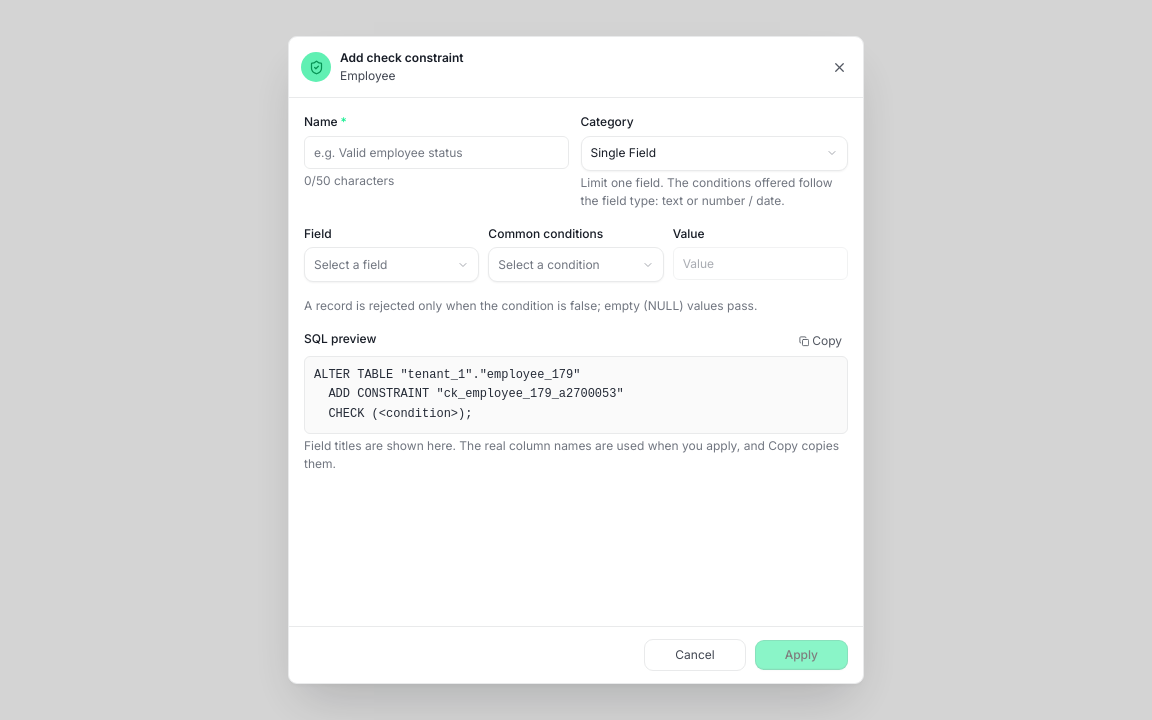
Test: CheckConstraintFormModal › builds the condition from the field, the condition and the typed values, names it and previews the SQL
Step 1. Click the button "Select a field" → (392, 264), box [304,247,479,282]
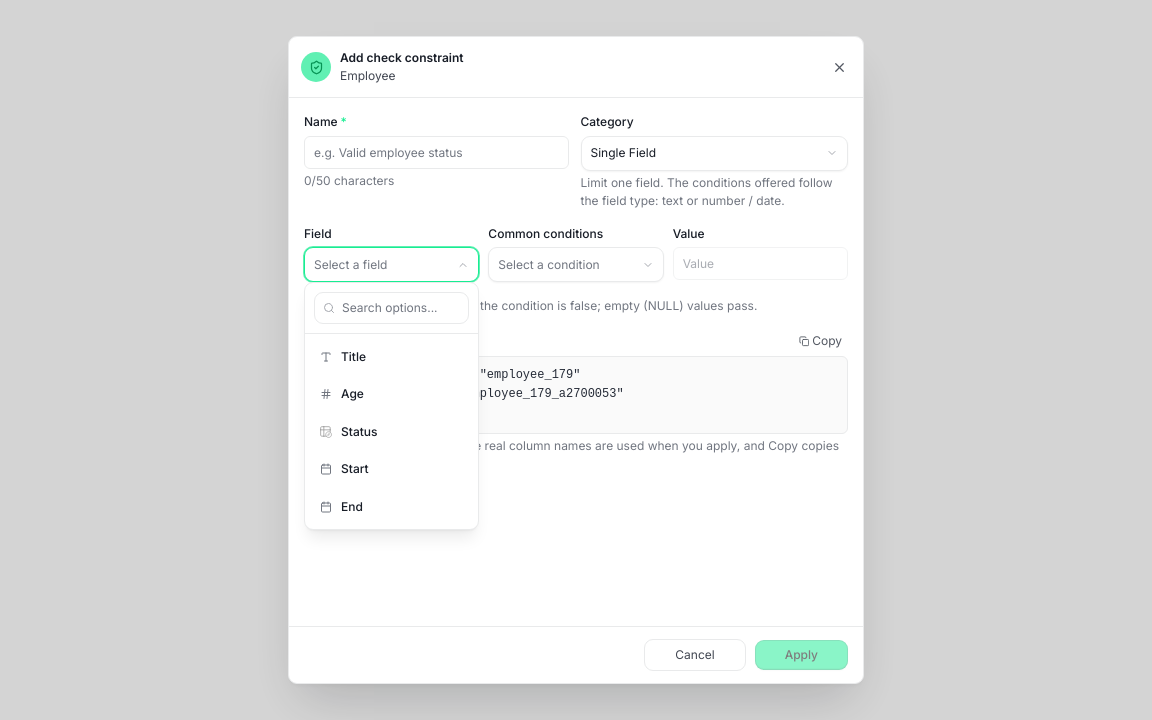
Step 2. Click the text "Age" → (352, 394), box [341,386,364,401]
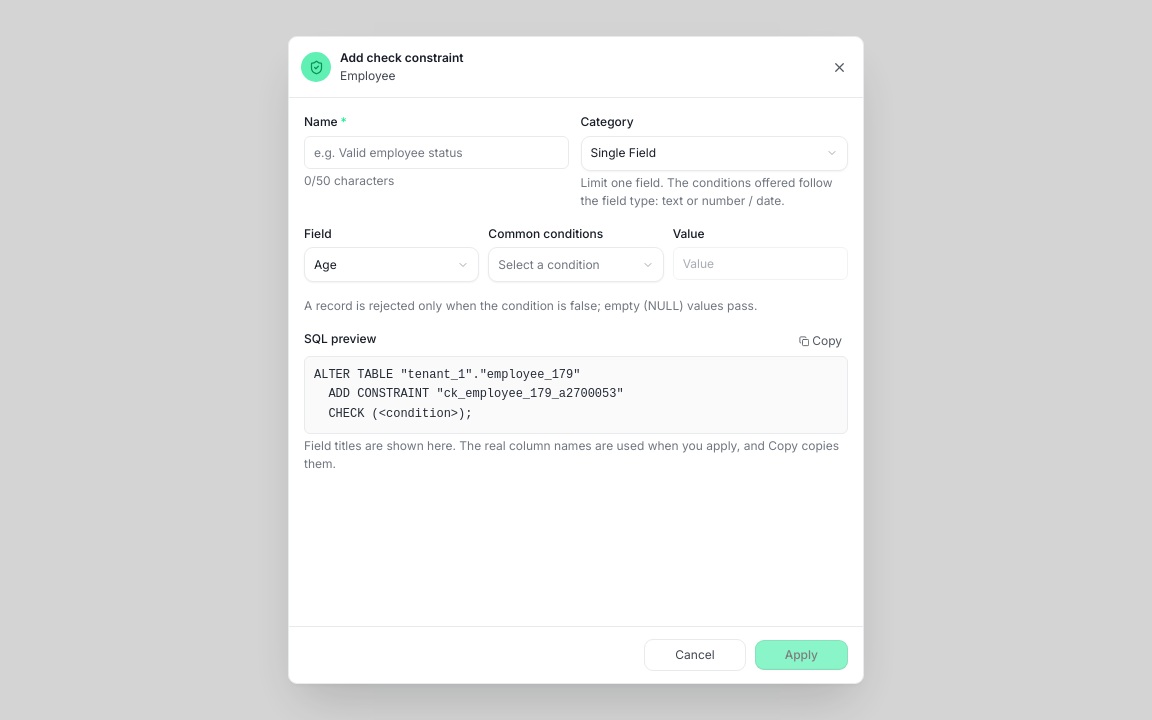
Step 3. Click the button "Select a condition" → (576, 264), box [488,247,664,282]
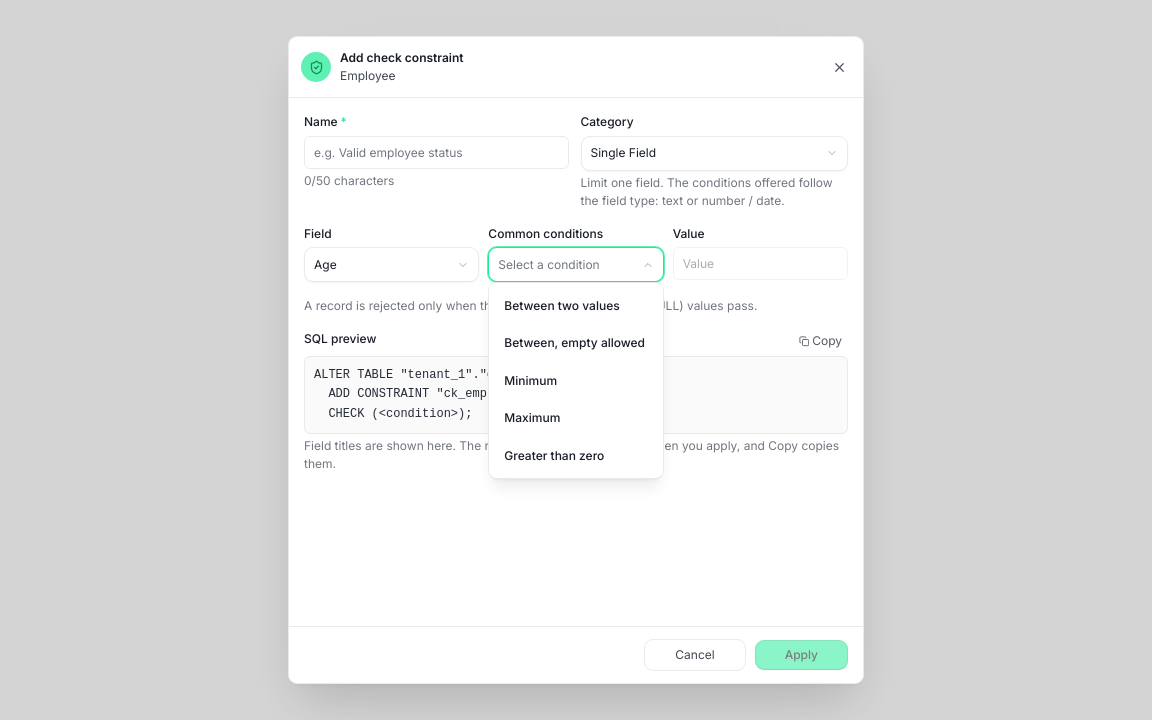
Step 4. Click the text "Between two values" → (562, 305), box [504,298,620,312]
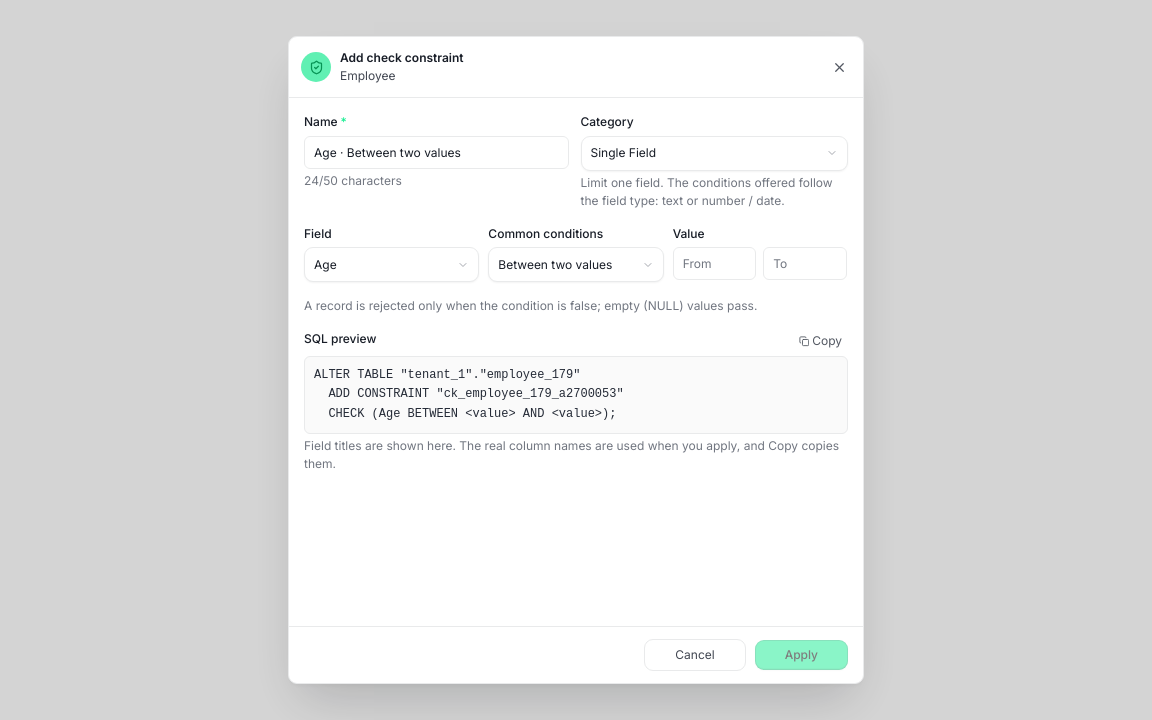
expect the button "Apply" is disabled: met, box [755,640,848,670]
Step 5. Type "0" into the number field labelled "From" → (715, 264), box [673,247,756,280]
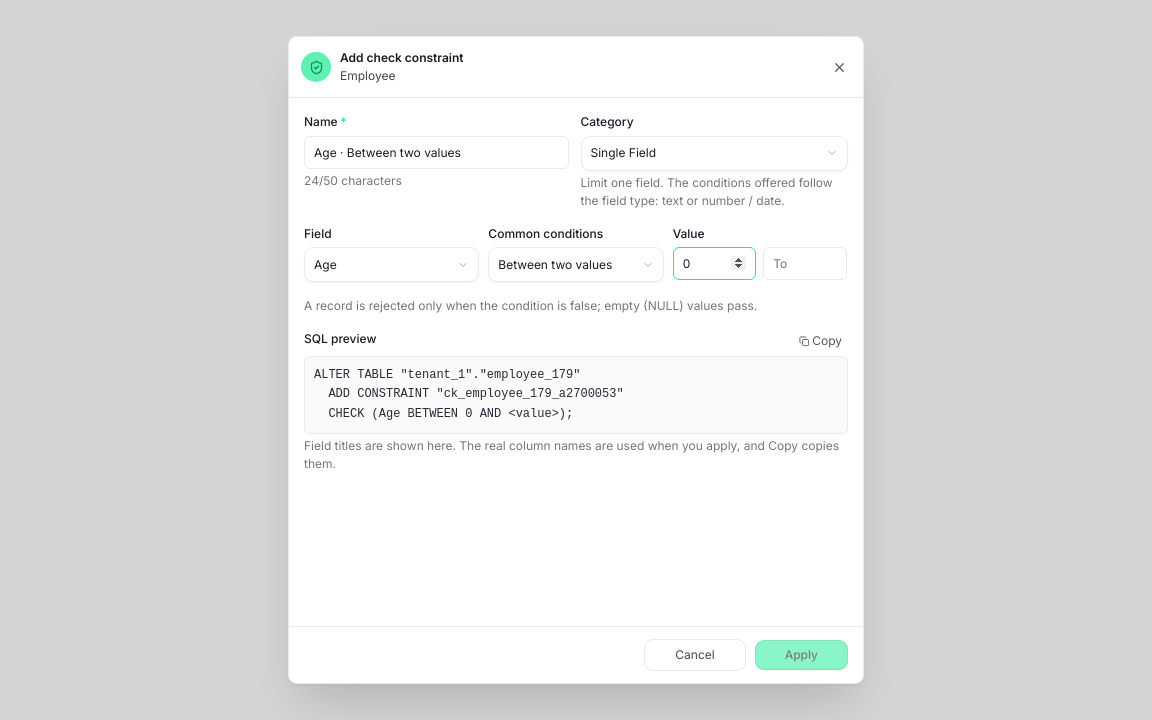
Step 6. Type "100" into the number field labelled "To" → (805, 264), box [763,247,847,280]
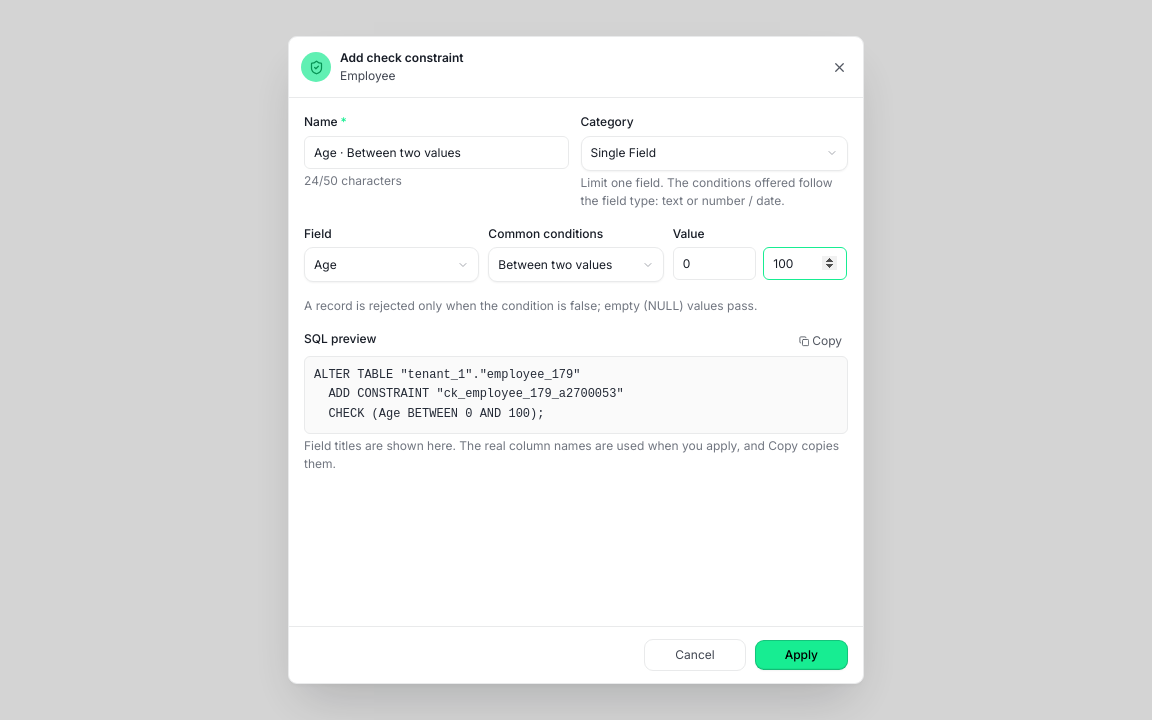
expect the field labelled "Name *" holds "Age · Between two values": met, box [304,136,569,168]
expect the button "Apply" is enabled: met, box [755,640,848,670]
